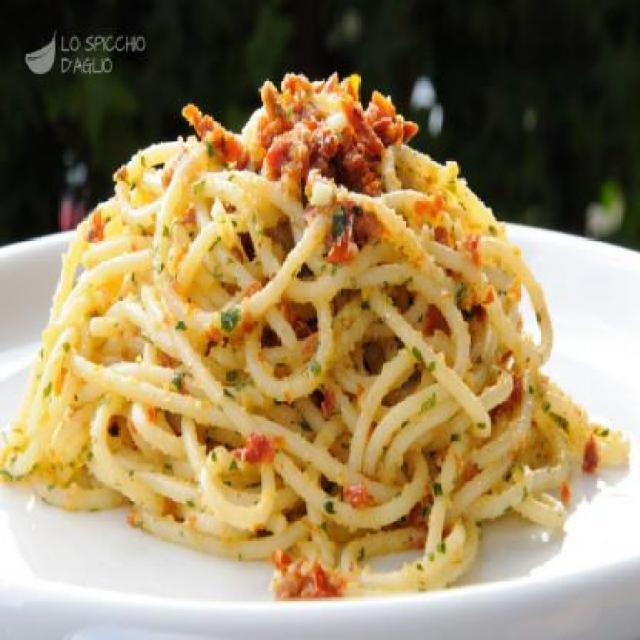Oil pasta: (69, 104, 577, 580)
